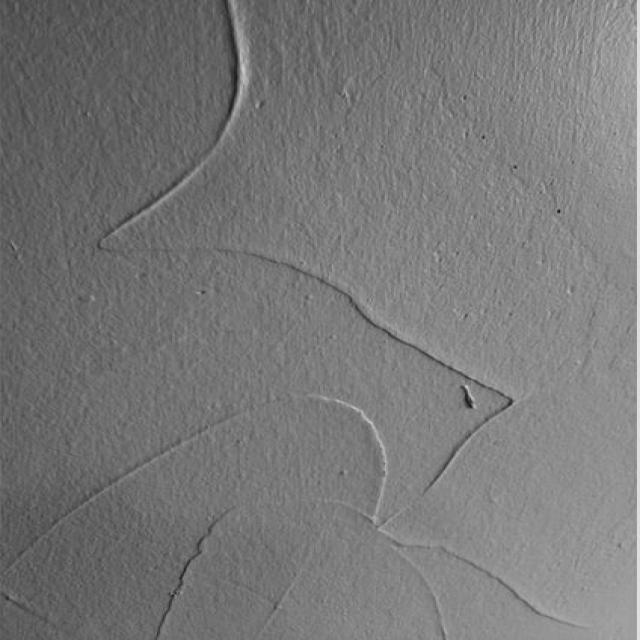trowels marks: (0, 249, 597, 640), (81, 0, 277, 247)
